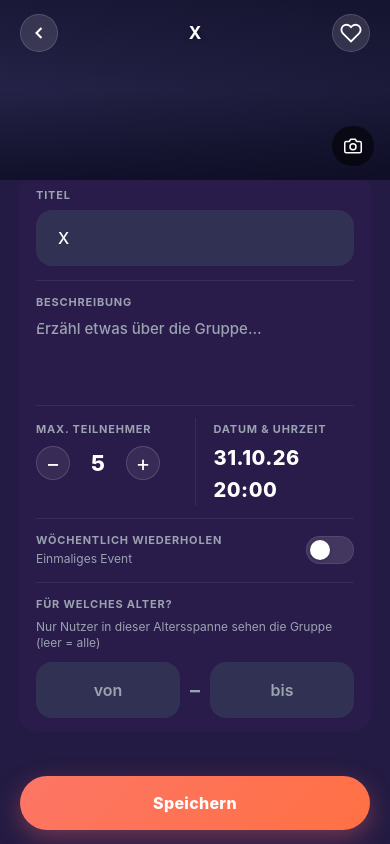
GroupEdit — participant limit › never below the people already in: "−" stops at the member count
This screenshot has width=390, height=844.
(page scrolled)
Click the button named "Weniger": click(53, 463) [36,446,70,480]
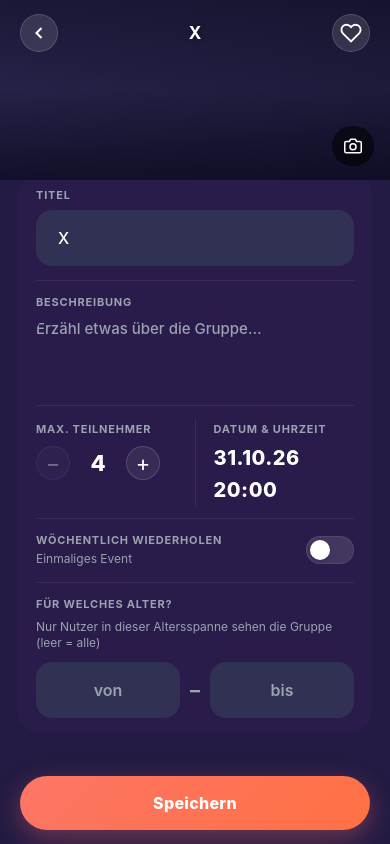
Check: the button named "Weniger" is disabled, box [36,446,70,480]
